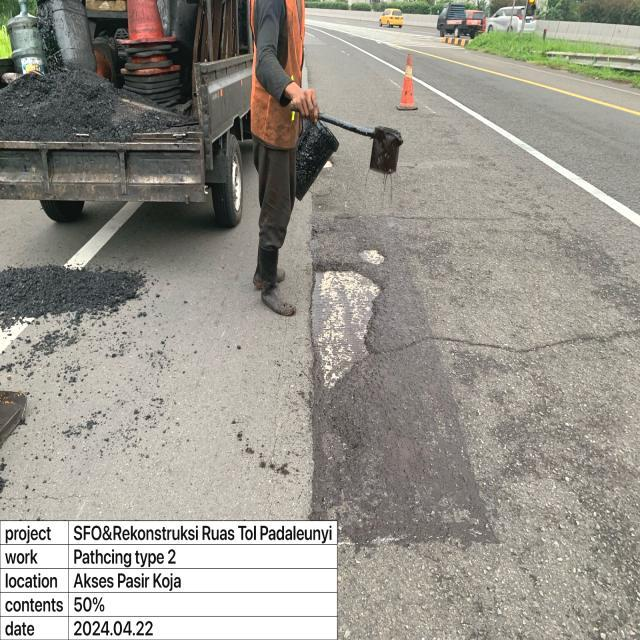Buraco: (306, 260, 387, 393), (353, 246, 389, 267), (322, 158, 337, 170)
